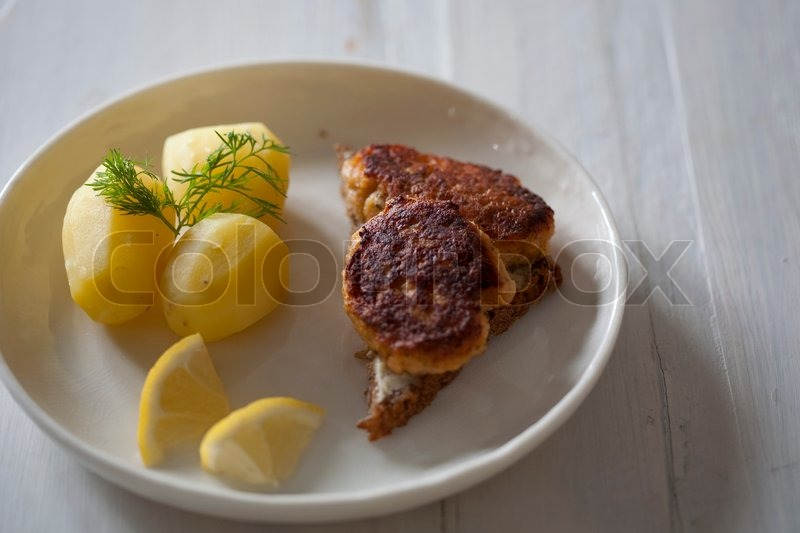boiled potatoes: (64, 163, 171, 319), (163, 223, 291, 338), (164, 122, 295, 224)
meatballs: (348, 213, 506, 372), (336, 140, 552, 254)
